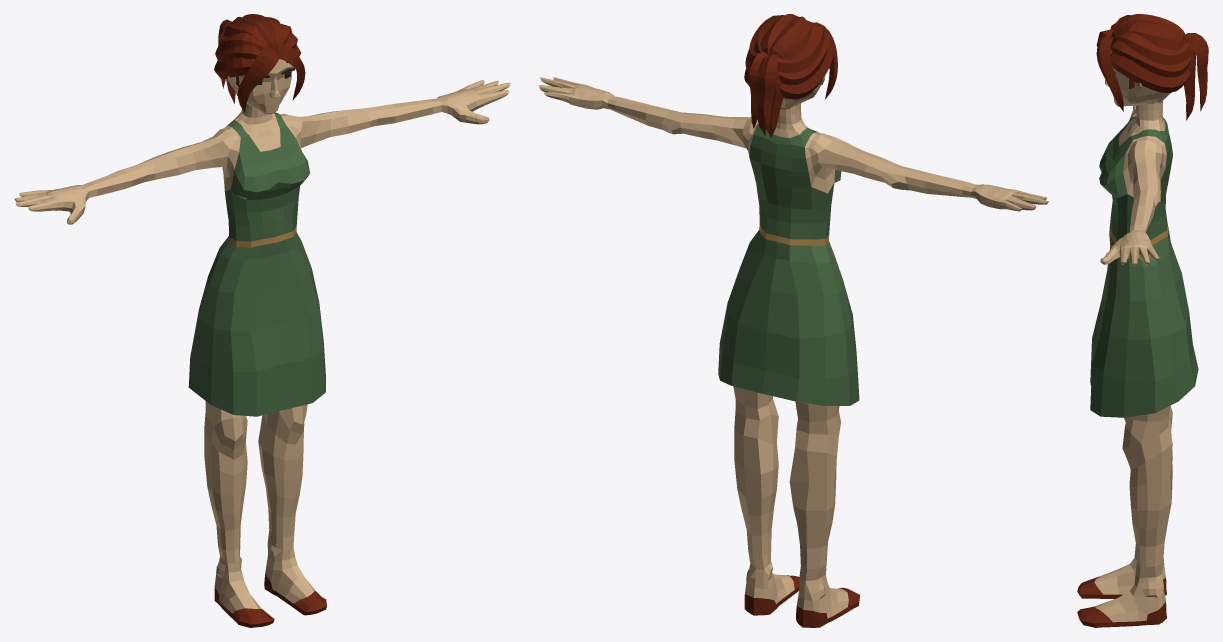
File: animated_woman.glb
The picture shows the model from 3 angles, left to right: view 1: azimuth 30°, elevation 25°; view 2: azimuth 150°, elevation 25°; view 3: azimuth 270°, elevation 25°; orthographic projection. The views are drawn at different scales.
Parts seen in each view (by area): view 1: Formal_Legs_dcd183, Formal_Body_bd758a, Formal_Legs_142e03, Formal_Body_b605ef, Formad_Head_86d422, Formal_Feet_b5a592, Formad_Head_fede33, Formal_Feet_c9245b; view 2: Formal_Legs_dcd183, Formal_Legs_142e03, Formal_Body_bd758a, Formal_Body_b605ef, Formad_Head_86d422, Formal_Feet_b5a592, Formal_Feet_c9245b, Formad_Head_fede33; view 3: Formal_Legs_dcd183, Formad_Head_86d422, Formal_Legs_142e03, Formal_Body_bd758a, Formal_Body_b605ef, Formal_Feet_b5a592, Formal_Feet_c9245b, Formad_Head_fede33.
Part boxes in pixels (left/top/right/bottom): Formal_Legs_dcd183: left=188, top=241, right=325, bottom=416; Formal_Body_bd758a: left=14, top=80, right=510, bottom=224; Formal_Legs_142e03: left=204, top=401, right=307, bottom=550; Formal_Body_b605ef: left=219, top=112, right=310, bottom=259; Formad_Head_86d422: left=214, top=14, right=305, bottom=112; Formal_Feet_b5a592: left=214, top=530, right=315, bottom=613; Formad_Head_fede33: left=227, top=59, right=293, bottom=117; Formal_Feet_c9245b: left=214, top=574, right=326, bottom=627; Formal_Legs_dcd183: left=718, top=242, right=859, bottom=405; Formal_Legs_142e03: left=733, top=386, right=840, bottom=569; Formal_Body_bd758a: left=539, top=77, right=1048, bottom=211; Formal_Body_b605ef: left=749, top=124, right=841, bottom=263; Formad_Head_86d422: left=744, top=14, right=837, bottom=137; Formal_Feet_b5a592: left=745, top=550, right=848, bottom=618; Formal_Feet_c9245b: left=744, top=575, right=860, bottom=627; Formad_Head_fede33: left=777, top=76, right=824, bottom=124; Formal_Legs_dcd183: left=1090, top=243, right=1198, bottom=417; Formad_Head_86d422: left=1096, top=14, right=1208, bottom=120; Formal_Legs_142e03: left=1122, top=405, right=1172, bottom=567; Formal_Body_bd758a: left=1100, top=106, right=1166, bottom=266; Formal_Body_b605ef: left=1099, top=116, right=1172, bottom=268; Formal_Feet_b5a592: left=1094, top=544, right=1165, bottom=622; Formal_Feet_c9245b: left=1077, top=576, right=1166, bottom=627; Formad_Head_fede33: left=1105, top=50, right=1170, bottom=120.
Bounding box in the file's own units: 1.65 × 1.84 × 0.3724.
